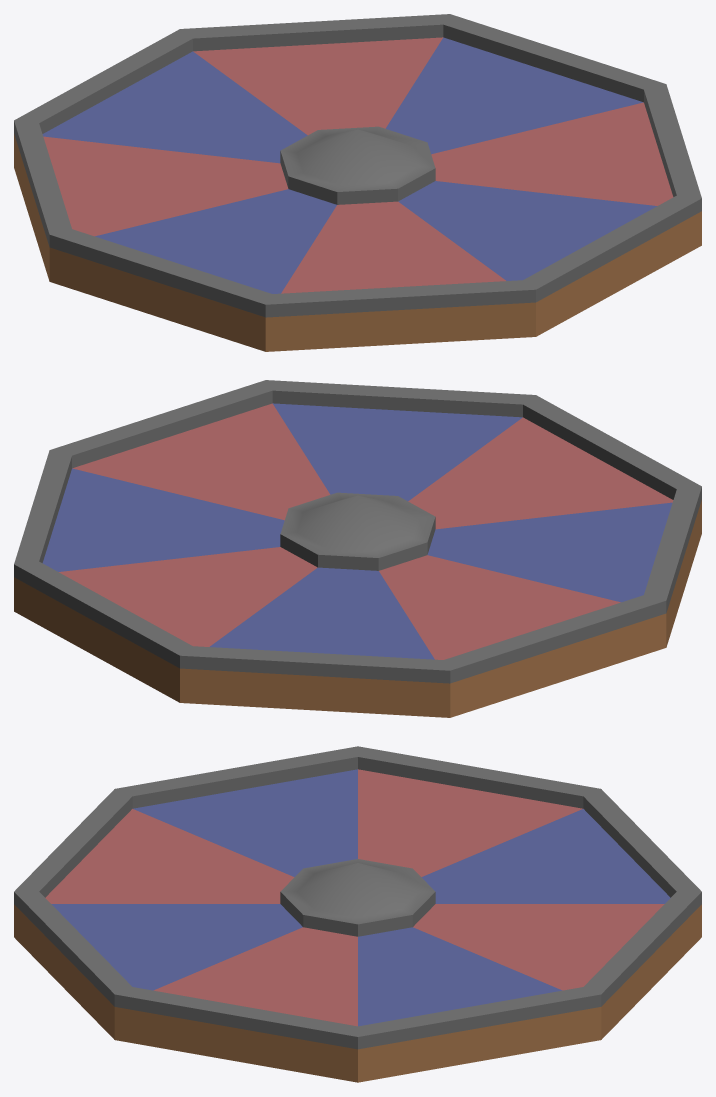
Rendered from shield3.fbx.
The picture shows the model from 3 angles, top to bottom: view 1: azimuth 30°, elevation 25°; view 2: azimuth 150°, elevation 25°; view 3: azimuth 270°, elevation 25°; orthographic projection. The views are drawn at different scales.
Visible parts, largest first — view 1: pCylinder1; view 2: pCylinder1; view 3: pCylinder1.
Boxes of the visible parts, box(x1,y1,x2,y2) form: pCylinder1: box(14, 14, 701, 351); pCylinder1: box(14, 380, 701, 717); pCylinder1: box(14, 746, 701, 1082).
Size of the model in its own units: 5.05 by 0.6019 by 5.05.
